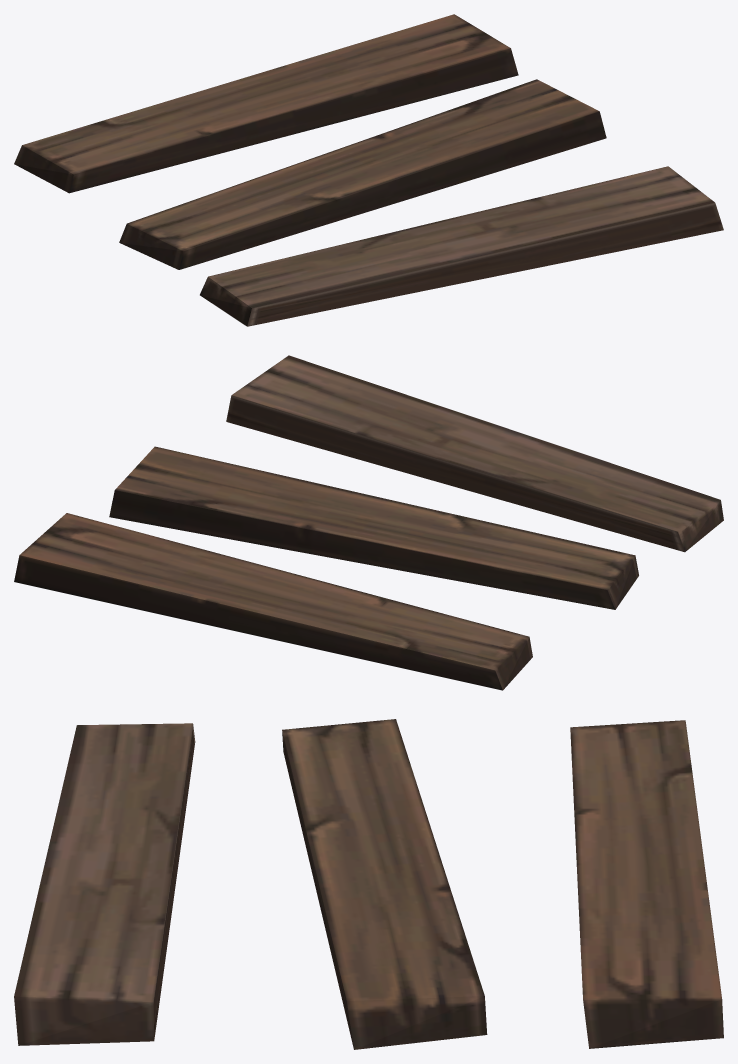
File: bandit_boards_01.fbx
3 renders of one model, top to bottom at view 1: azimuth 30°, elevation 25°; view 2: azimuth 150°, elevation 25°; view 3: azimuth 270°, elevation 25°, orthographic. The views are drawn at different scales.
Parts seen in each view (by area): view 1: obj0.683; view 2: obj0.683; view 3: obj0.683.
Part boxes in pixels (x1=…): obj0.683: x1=14, y1=14, x2=723, y2=326; obj0.683: x1=14, y1=355, x2=723, y2=690; obj0.683: x1=14, y1=719, x2=723, y2=1049.
Size of the model in its own units: 2.45 by 0.1658 by 2.35.
